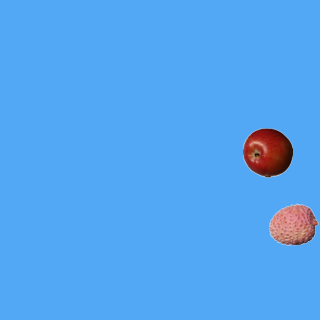Apple Braeburn: (242, 127, 292, 177)
Lychee: (268, 199, 318, 249)
